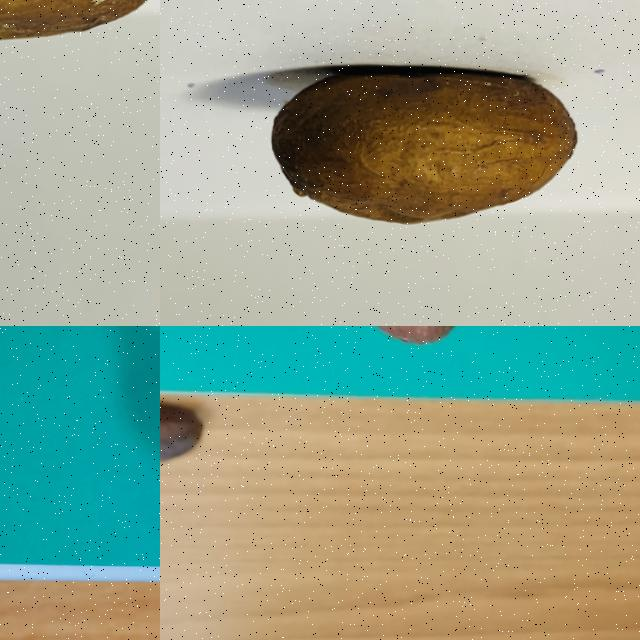Agglomerated_cocoabeans: (112, 326, 159, 586)
Fine_cocoabeans: (216, 48, 600, 237), (269, 326, 555, 377)
